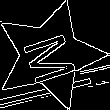M_E: (16, 25, 83, 85)
